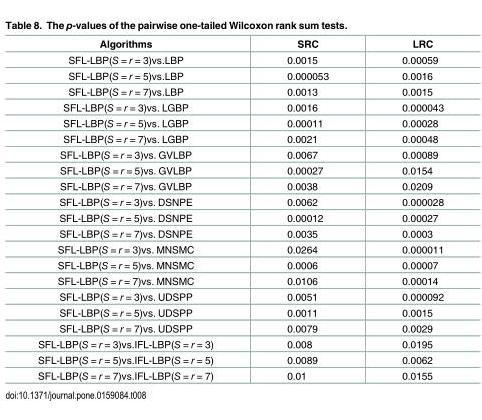table: (37, 37, 443, 381)
table column: (37, 37, 249, 381), (249, 37, 364, 381), (364, 37, 443, 381)
table column header: (37, 37, 443, 51)
table row: (37, 51, 443, 67), (37, 67, 443, 83), (37, 83, 443, 99), (37, 114, 443, 130), (37, 130, 443, 146), (37, 146, 443, 162), (37, 177, 443, 193), (37, 193, 443, 209), (37, 209, 443, 225), (37, 225, 443, 241), (37, 256, 443, 272), (37, 272, 443, 288), (37, 288, 443, 304), (37, 319, 443, 335), (37, 335, 443, 351), (37, 351, 443, 367), (37, 99, 443, 114), (37, 162, 443, 177), (37, 241, 443, 256), (37, 304, 443, 319), (37, 37, 443, 51), (37, 367, 443, 381)
